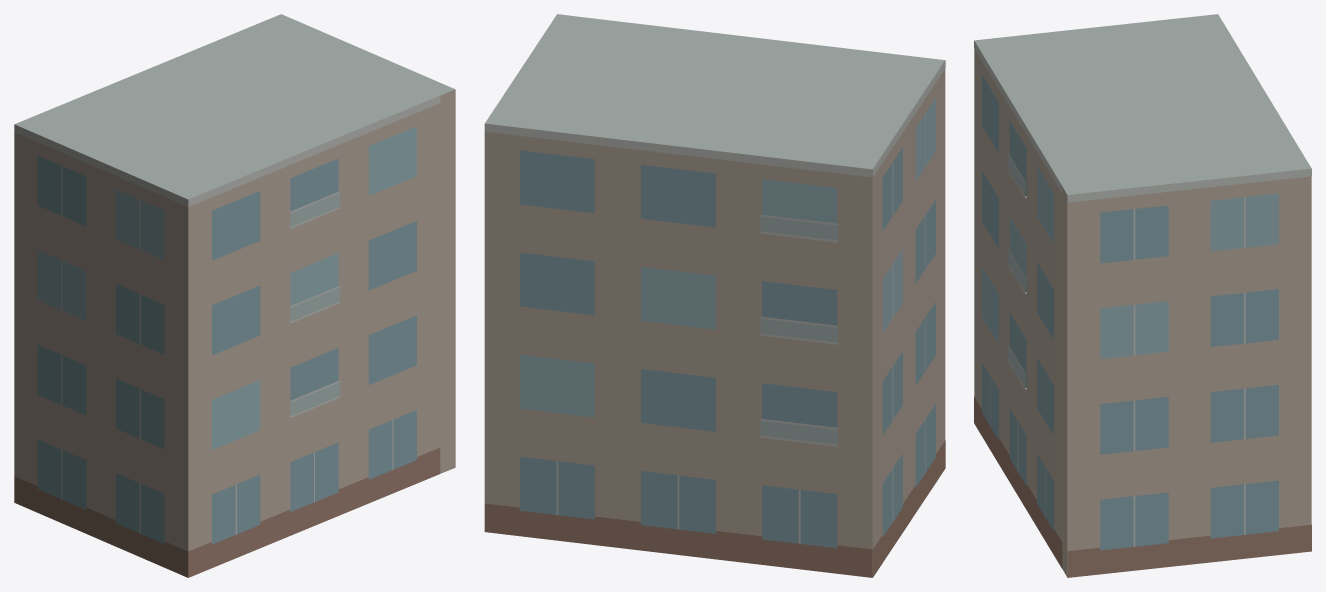
Rendered from residential-46811b01-a93c-4254-9b3c-6153b3ebc745.glb.
The picture shows the model from 3 angles, left to right: view 1: azimuth 30°, elevation 25°; view 2: azimuth 150°, elevation 25°; view 3: azimuth 270°, elevation 25°; orthographic projection. The views are drawn at different scales.
Parts seen in each view (by area): view 1: residential-46811b01-a93c-4254-9b3c-6153b3ebc745.tmp; view 2: residential-46811b01-a93c-4254-9b3c-6153b3ebc745.tmp; view 3: residential-46811b01-a93c-4254-9b3c-6153b3ebc745.tmp.
Part boxes in pixels (x1,y1,x2,y2): residential-46811b01-a93c-4254-9b3c-6153b3ebc745.tmp: (14,14,455,577); residential-46811b01-a93c-4254-9b3c-6153b3ebc745.tmp: (484,14,945,577); residential-46811b01-a93c-4254-9b3c-6153b3ebc745.tmp: (974,14,1311,577).
Size of the model in its own units: 12.39 by 12.2 by 9.76.
